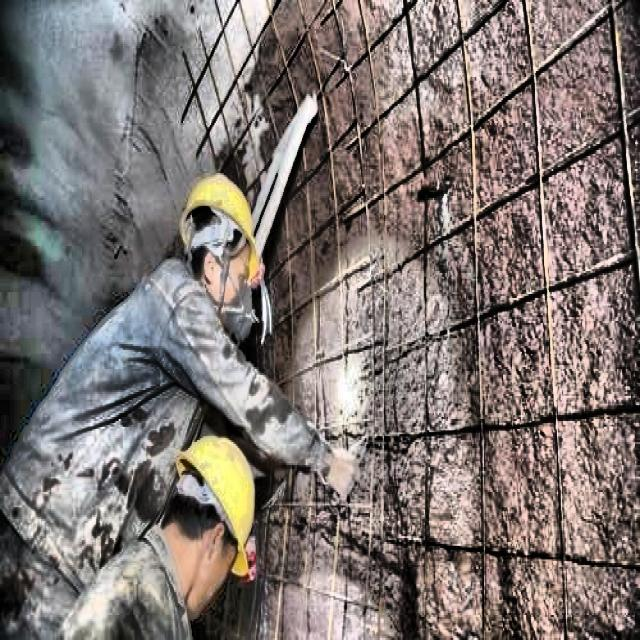helmet: (151, 421, 270, 619), (172, 154, 264, 317)
